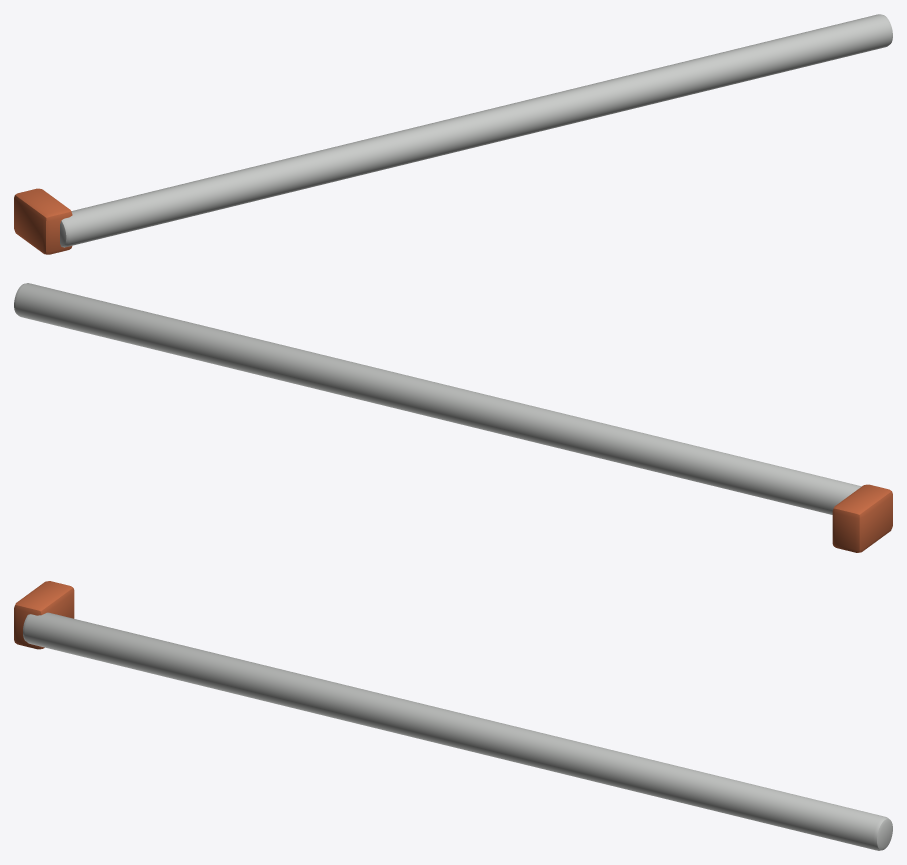
The model's file is rotary_hammer_depth_rod.glb.
3 views of the same model, one above another, from view 1: azimuth 30°, elevation 25°; view 2: azimuth 150°, elevation 25°; view 3: azimuth 330°, elevation 25° (orthographic). The views are drawn at different scales.
Parts seen in each view (by area): view 1: rotary_hammer_depth_rod; view 2: rotary_hammer_depth_rod; view 3: rotary_hammer_depth_rod.
Boxes of the visible parts, bbox=[...] form: rotary_hammer_depth_rod: bbox=[14, 14, 892, 254]; rotary_hammer_depth_rod: bbox=[14, 283, 892, 552]; rotary_hammer_depth_rod: bbox=[14, 581, 892, 850].
Size of the model in its own units: 0.173 by 0.008 by 0.014.
